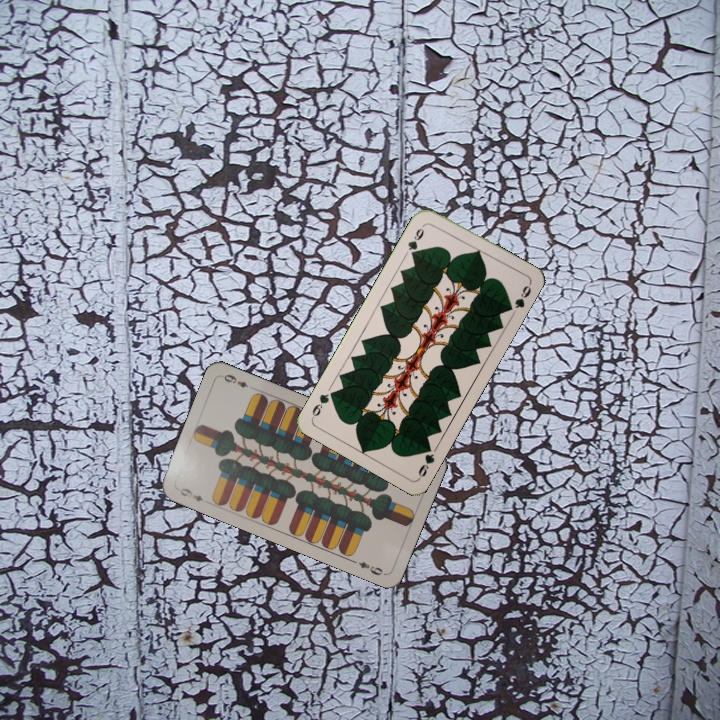E9: (176, 484, 206, 504)
G9: (403, 220, 428, 260), (414, 440, 437, 481)
